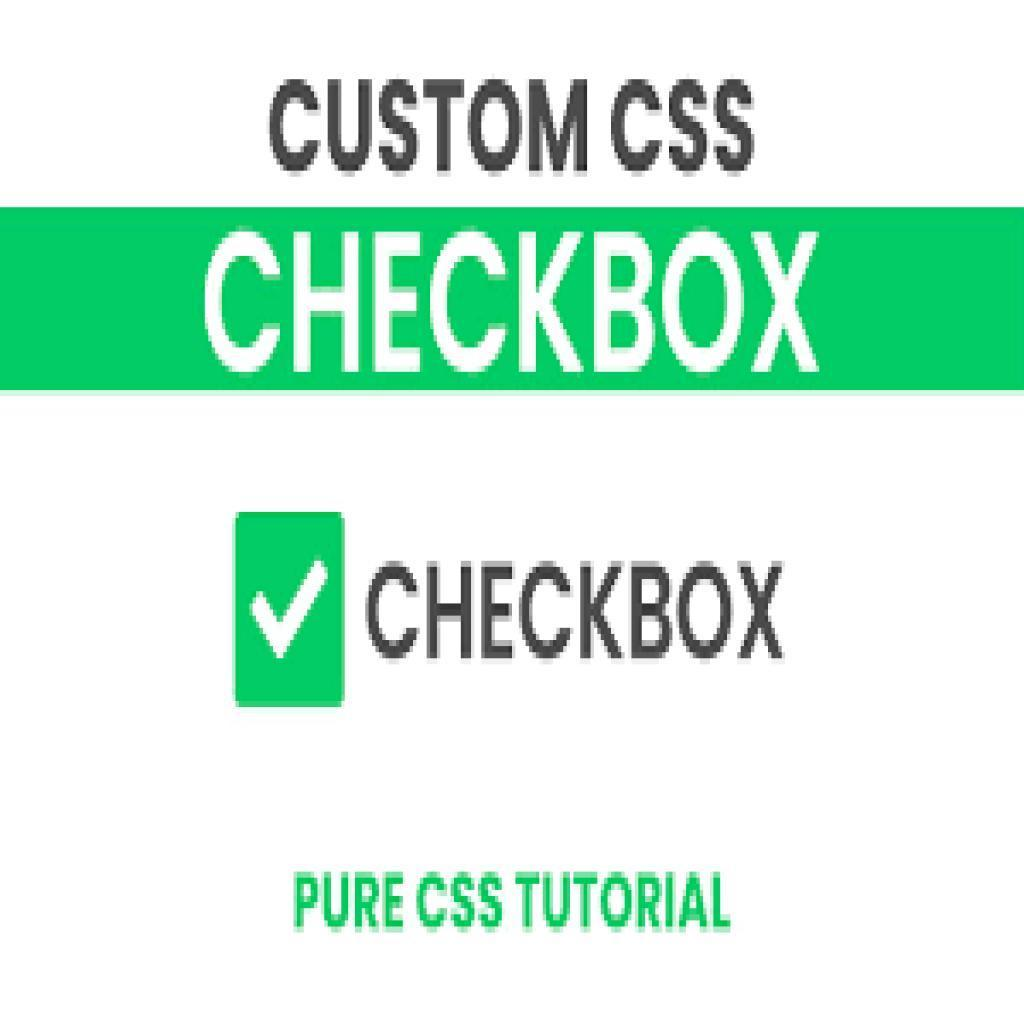checkbox: (234, 516, 349, 710)
